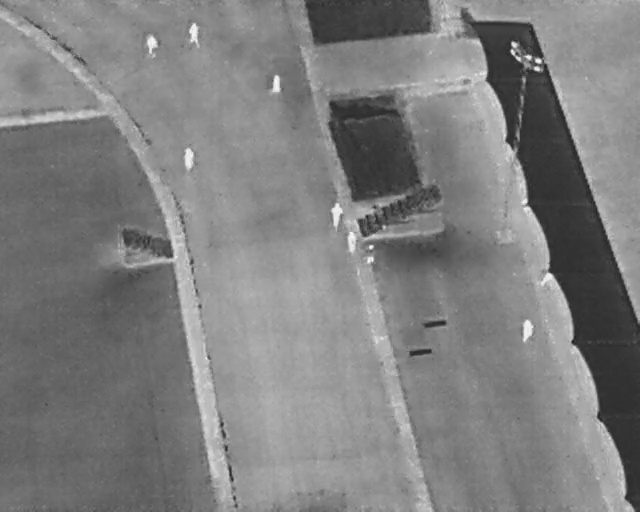Person: (329, 203, 345, 231), (145, 31, 159, 57), (188, 22, 202, 48), (183, 145, 196, 172), (520, 317, 533, 343), (348, 231, 358, 256), (271, 73, 282, 95)
